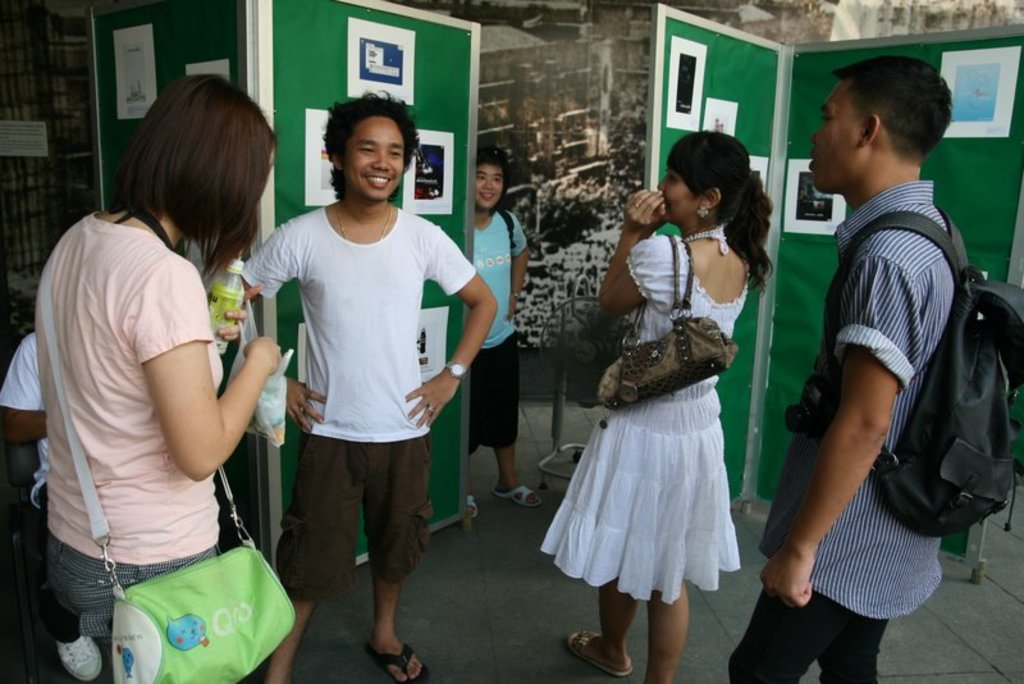Human-face: (809, 83, 858, 195), (343, 117, 403, 200), (658, 165, 698, 222), (476, 165, 502, 209)
